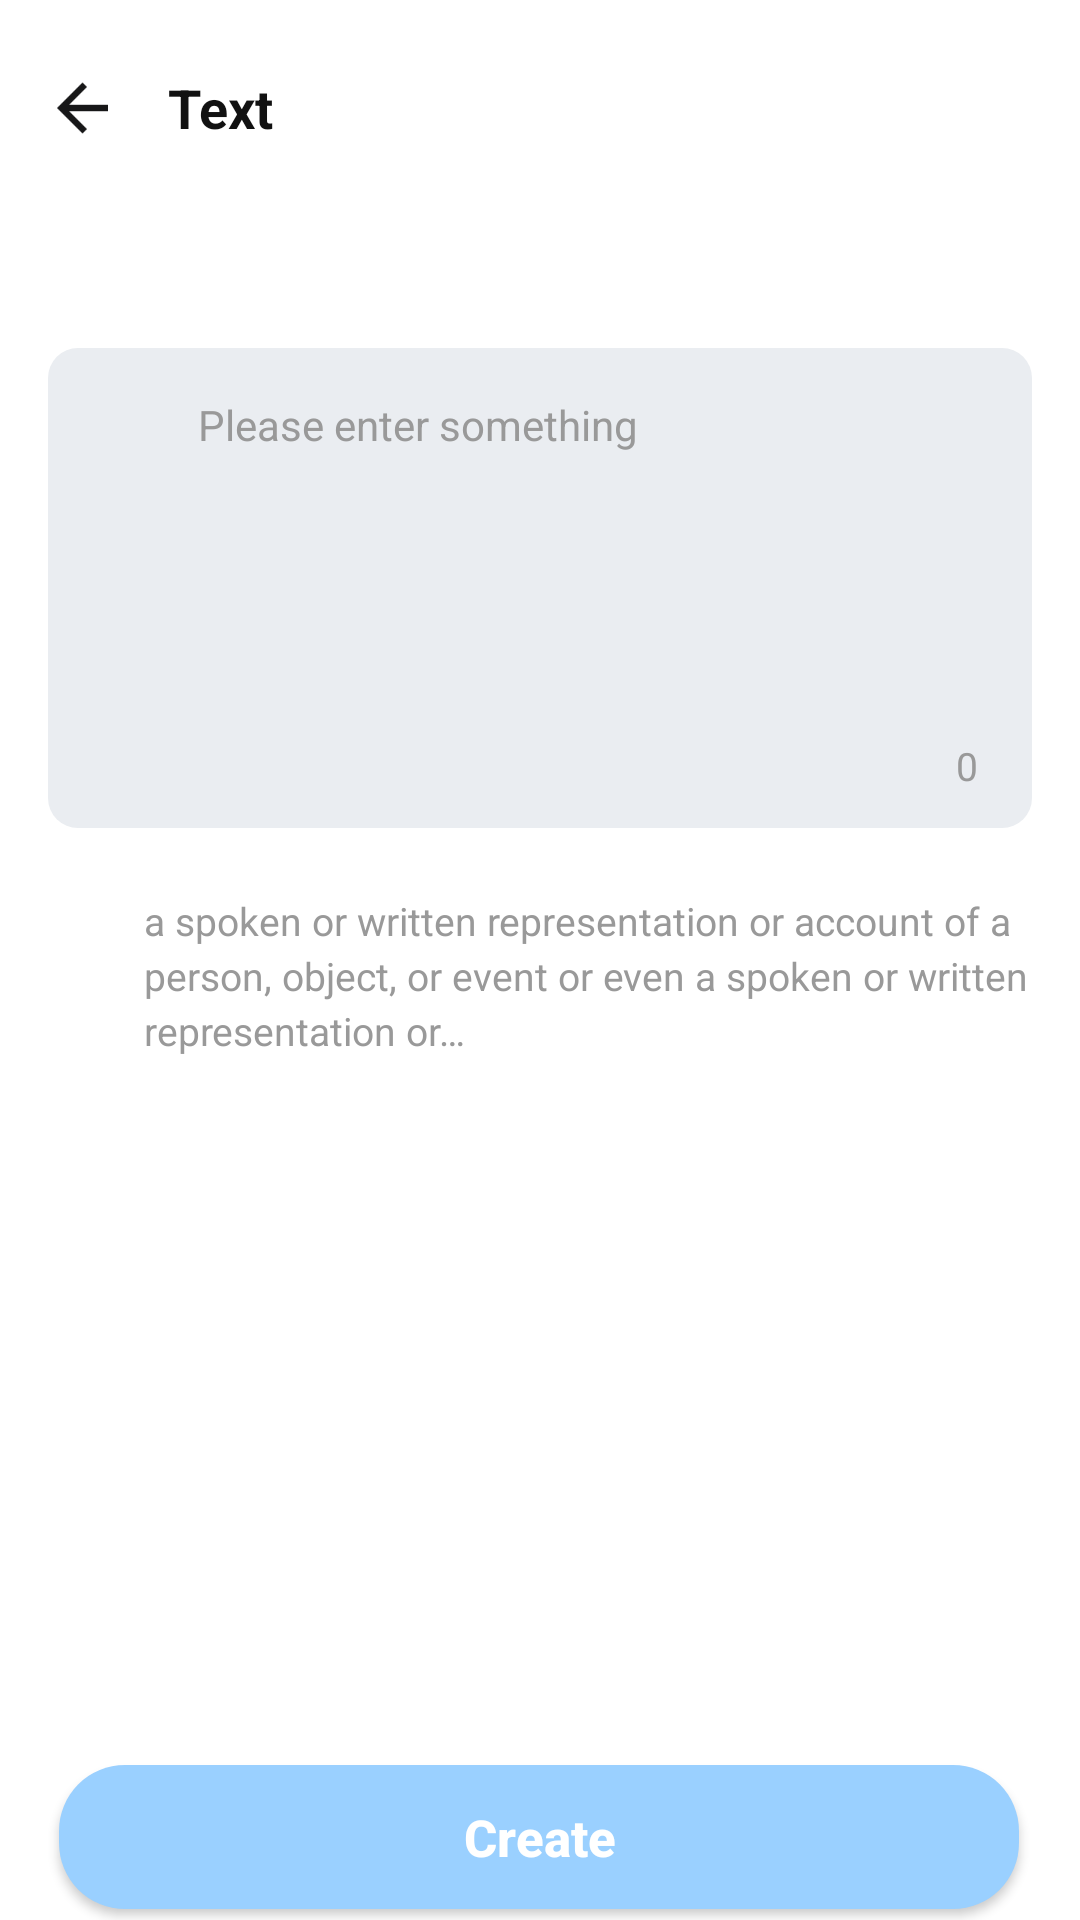

Locate icon controls on the screen. Image size 1080 × 1920, boxes as (x1, y1, x2, y2).
results page return: (57, 82, 108, 134)
